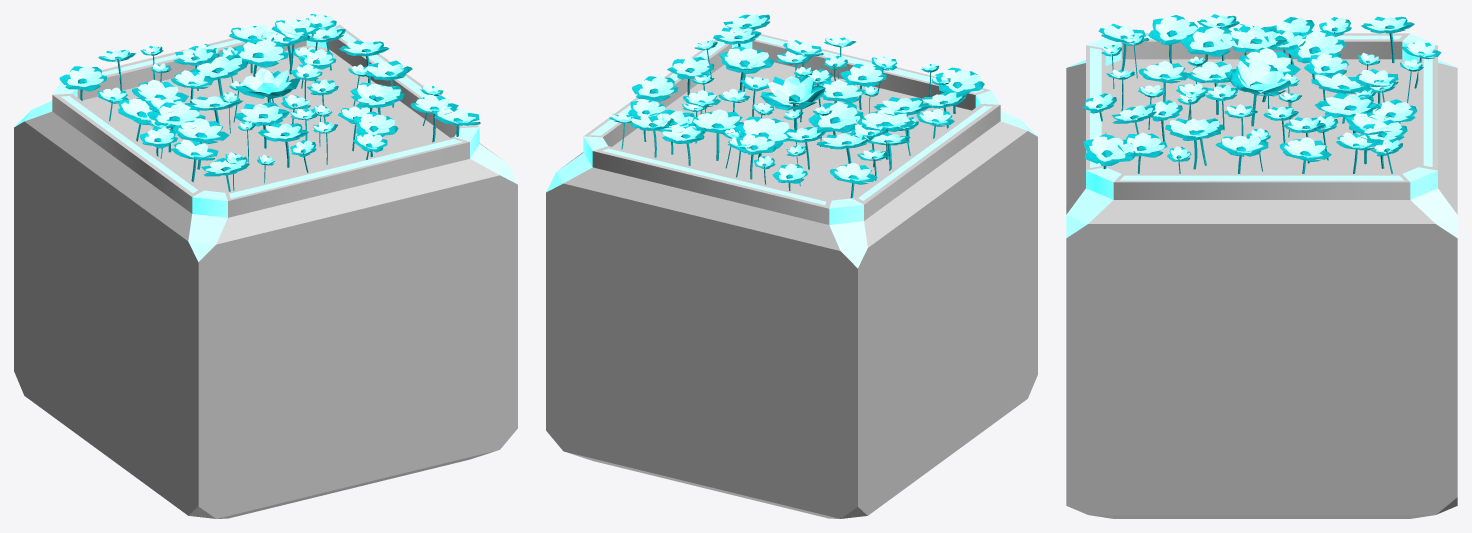
The model's file is Target.fbx.
3 views of the same model, side by side, from view 1: azimuth 30°, elevation 25°; view 2: azimuth 150°, elevation 25°; view 3: azimuth 270°, elevation 25° (orthographic). The views are drawn at different scales.
Parts seen in each view (by area): view 1: SM_Ground, Plane.002, Sphere.003; view 2: SM_Ground, Plane.002, Sphere.003; view 3: SM_Ground, Plane.002, Sphere.003.
Part boxes in pixels (<box>): SM_Ground: <box>14,24,517,518</box>; Plane.002: <box>59,14,480,191</box>; Sphere.003: <box>235,68,300,125</box>; SM_Ground: <box>546,34,1037,518</box>; Plane.002: <box>609,14,984,198</box>; Sphere.003: <box>760,75,825,130</box>; SM_Ground: <box>1066,33,1457,518</box>; Plane.002: <box>1082,14,1441,173</box>; Sphere.003: <box>1225,58,1291,126</box>.
Size of the model in its own units: 100 by 107 by 100.
